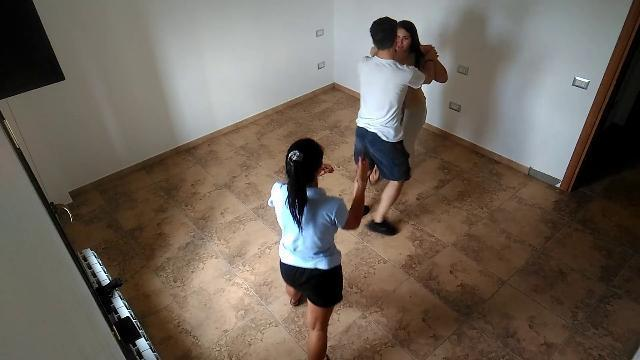knife: (359, 143, 368, 167)
non-violence: (266, 137, 374, 359)
violence: (350, 16, 450, 238)
